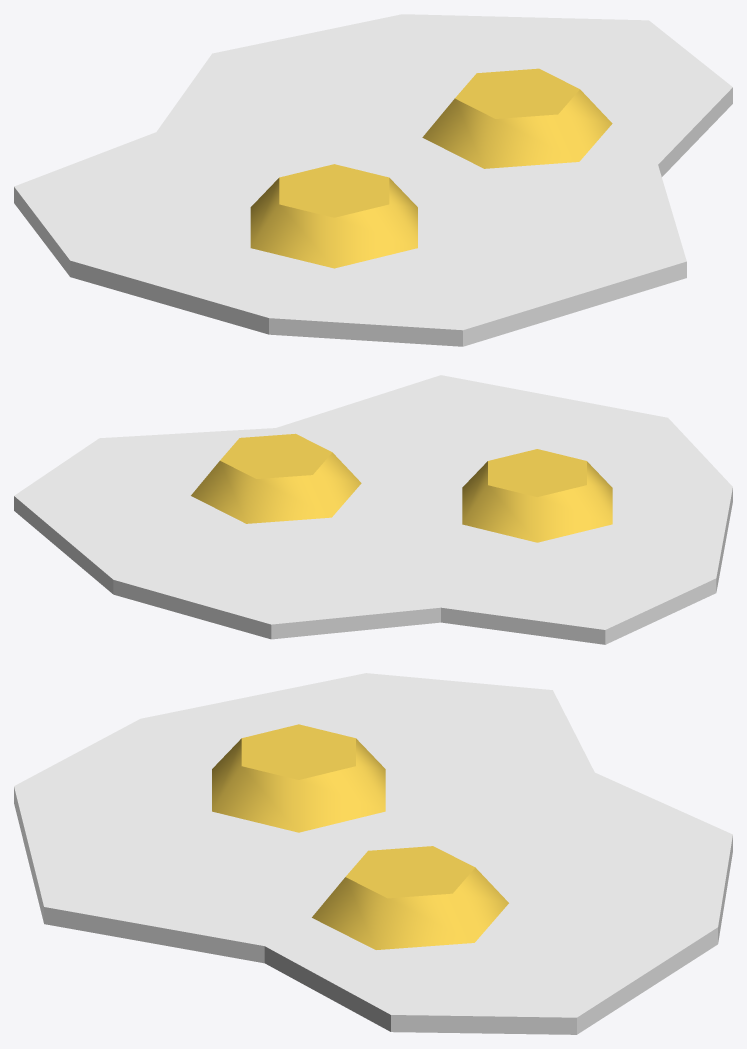
The model's file is sunnySideEgg.fbx.
The picture shows the model from 3 angles, top to bottom: view 1: azimuth 30°, elevation 25°; view 2: azimuth 150°, elevation 25°; view 3: azimuth 270°, elevation 25°; orthographic projection. The views are drawn at different scales.
Parts seen in each view (by area): view 1: sunnySideEgg; view 2: sunnySideEgg; view 3: sunnySideEgg.
Boxes of the visible parts, left/top/right/bottom form: sunnySideEgg: left=14, top=14, right=732, bottom=346; sunnySideEgg: left=14, top=375, right=732, bottom=644; sunnySideEgg: left=14, top=673, right=732, bottom=1034.
Bounding box in the file's own units: 215 × 16.12 × 189.
Materials: 1 (1 with a texture image).
